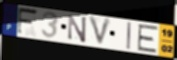3: (41, 11, 60, 40)
E: (136, 24, 160, 54)
F: (16, 7, 40, 36)
I: (126, 21, 132, 51)
N: (67, 14, 88, 44)
V: (87, 15, 113, 48)
